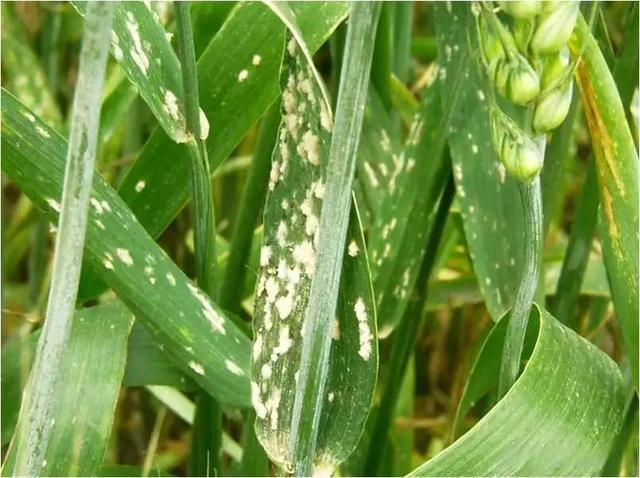Powdery Mildew: (246, 73, 352, 457)
